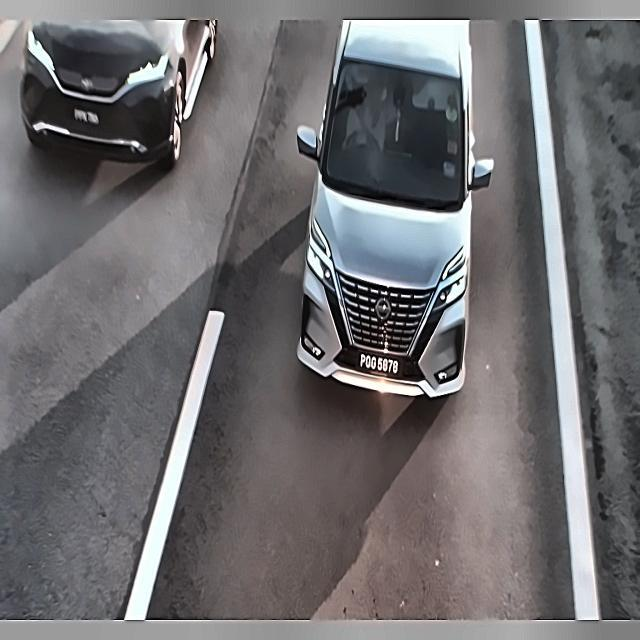car: (352, 344, 403, 388), (67, 101, 106, 132)
